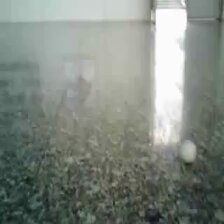w: (178, 139, 198, 164)
